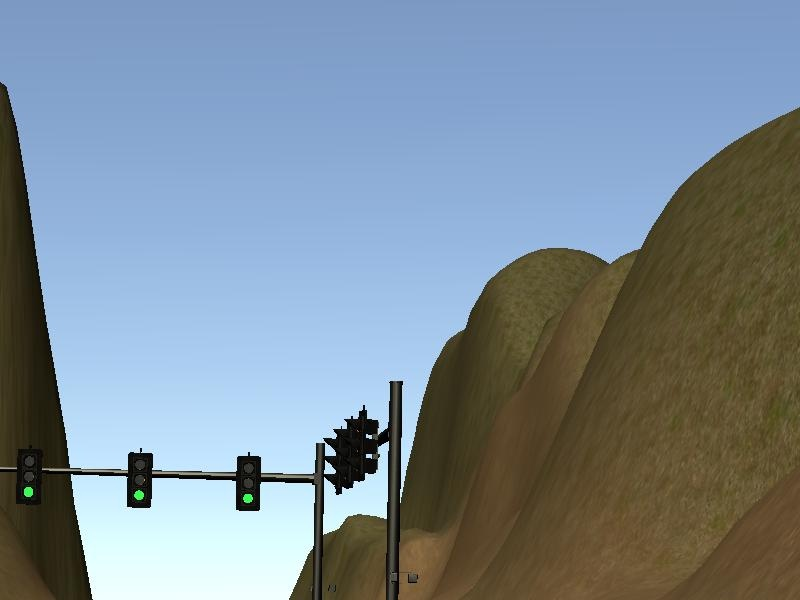green: (127, 452, 156, 508), (15, 449, 39, 505), (239, 455, 259, 511)
